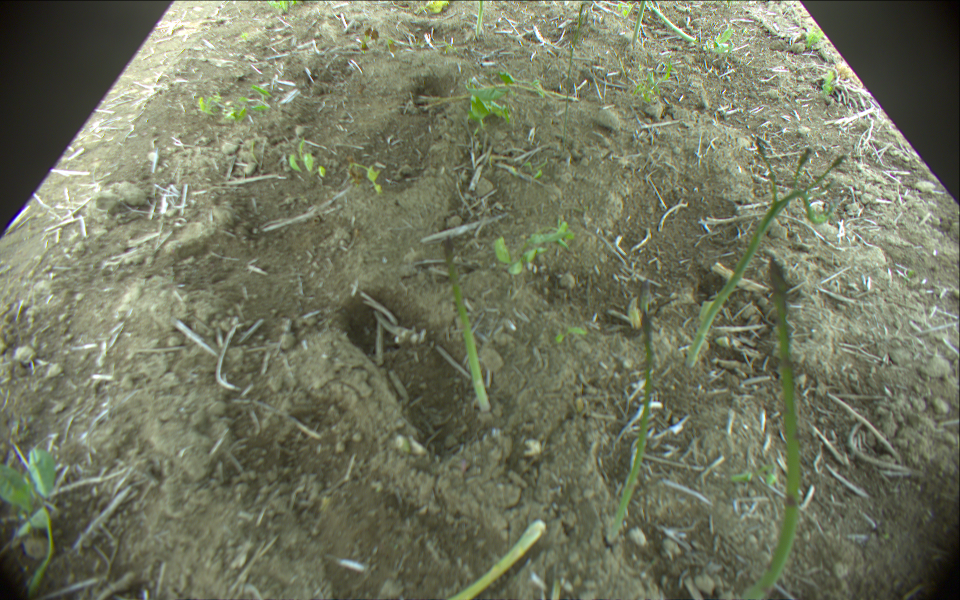aspa: (689, 142, 847, 368), (741, 261, 804, 600), (606, 279, 656, 545), (442, 235, 492, 411), (449, 518, 545, 600), (646, 1, 696, 45), (630, 1, 648, 45), (475, 1, 484, 35)
